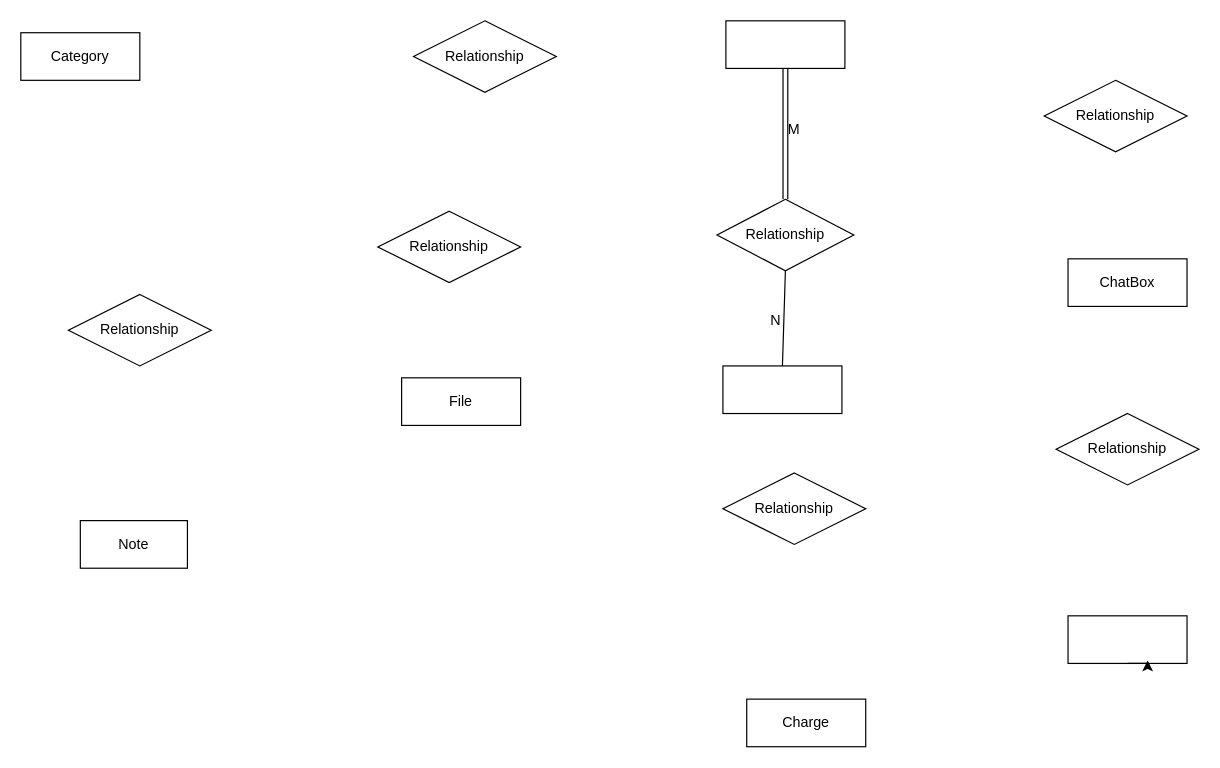
This 1220x768 diagram has some shape labels left out. The centre of each missing label's shape, as x and y in pixels:
Message: (x=1127, y=639)
Task: (x=785, y=44)
User: (x=782, y=389)
